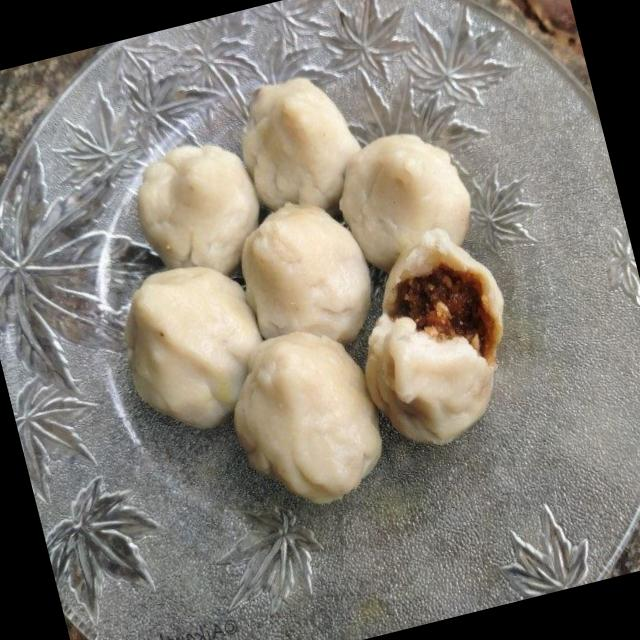modak: (139, 106, 509, 459)
